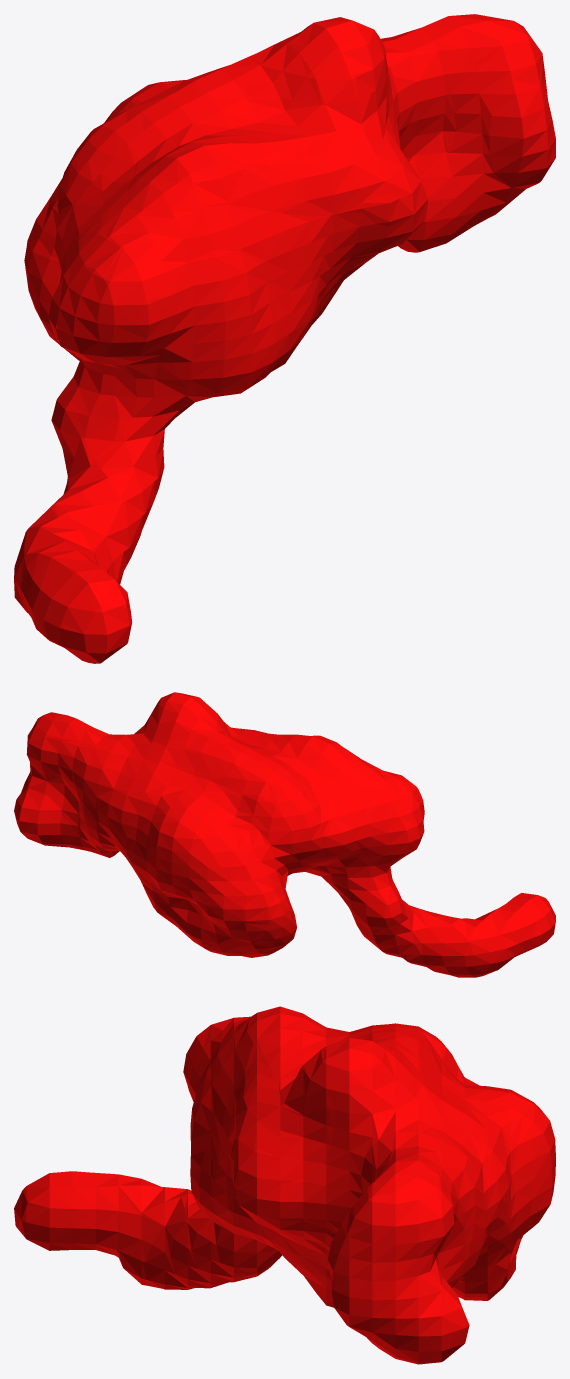
Rendered from ibpB_coarse.dae.
3 views of the same model, one above another, from view 1: azimuth 30°, elevation 25°; view 2: azimuth 150°, elevation 25°; view 3: azimuth 270°, elevation 25° (orthographic). The views are drawn at different scales.
Parts seen in each view (by area): view 1: ibpB; view 2: ibpB; view 3: ibpB.
Boxes of the visible parts, box(x1,y1,x2,y2) form: ibpB: box(14, 14, 555, 663); ibpB: box(14, 692, 555, 977); ibpB: box(14, 1006, 555, 1364).
Bounding box in the file's own units: 75.07 × 47.11 × 56.56.
